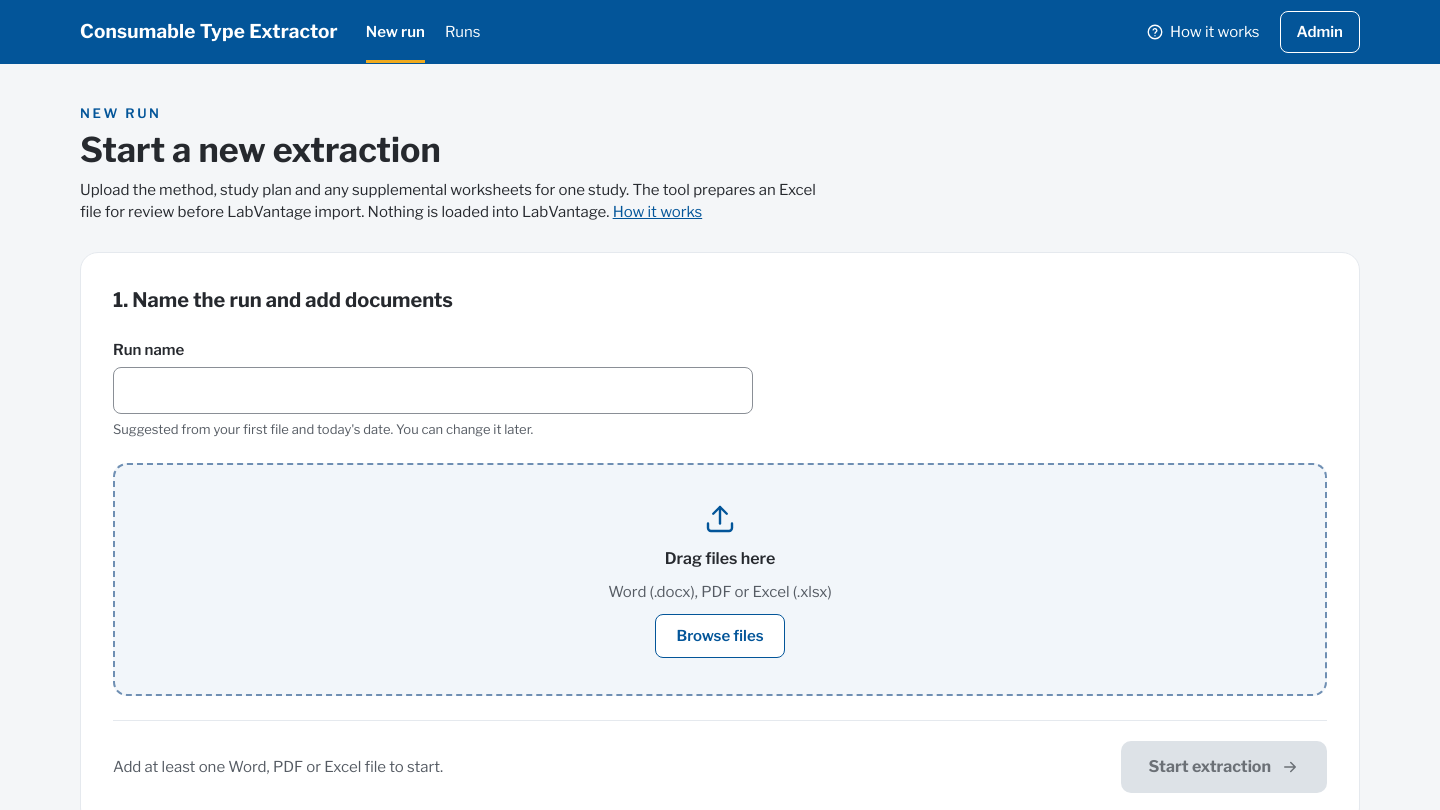
Scenario: How it works popup › the top bar button opens it again after it was seen
Click the button "How it works" next to "Admin". click: click(1203, 32)
box: left=1138, top=11, right=1268, bottom=53
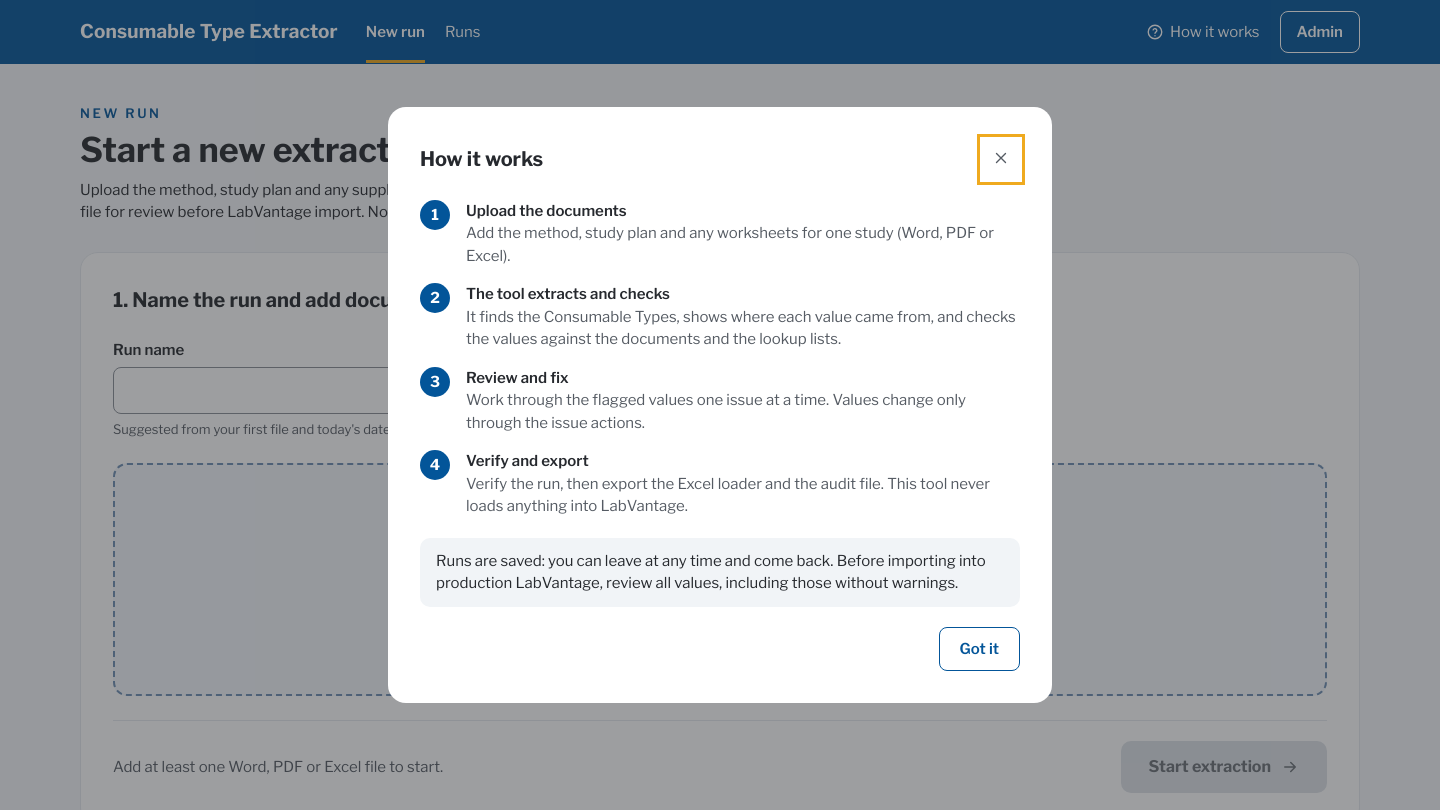
Now the dialog "How it works" is shown, box left=388, top=107, right=1052, bottom=703
